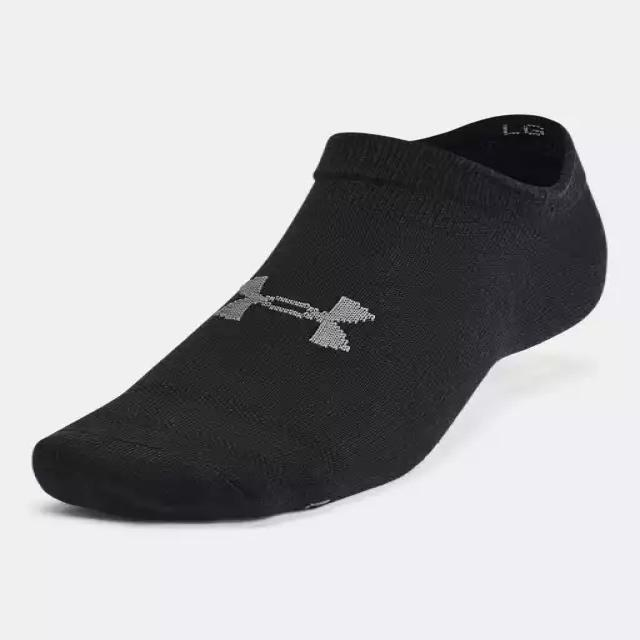sock: (30, 112, 608, 522)
